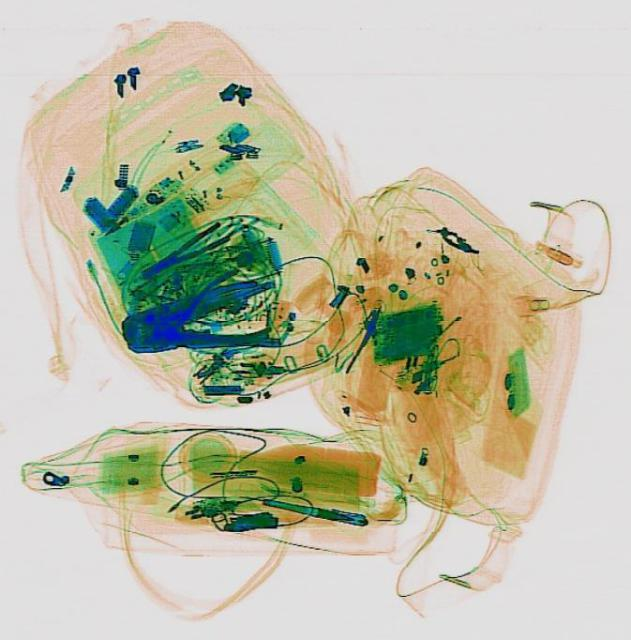Pliers: (118, 273, 284, 367), (142, 261, 271, 365), (133, 217, 230, 285)
